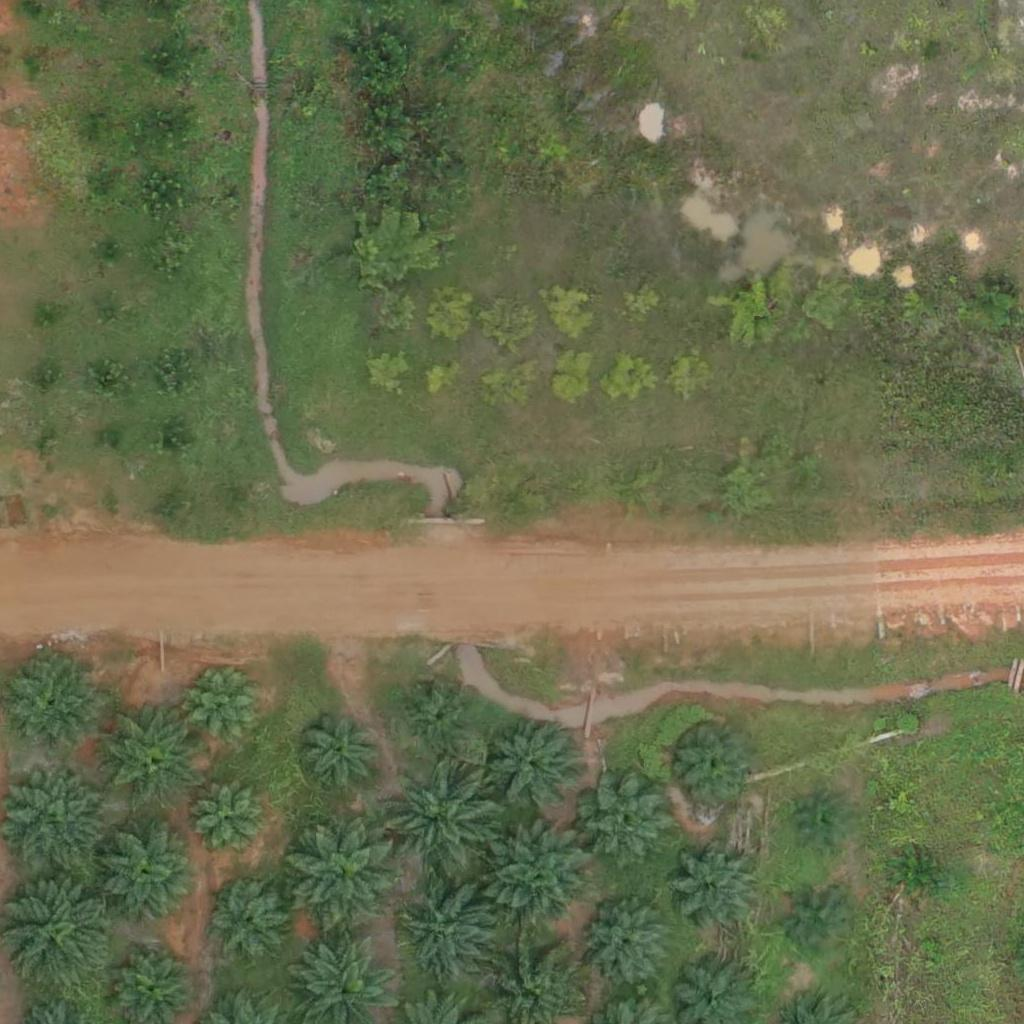Kelapa_Sawit: (387, 750, 512, 875), (2, 767, 115, 881), (8, 874, 121, 988), (289, 814, 402, 927), (3, 654, 103, 755), (101, 705, 201, 806), (402, 880, 502, 981), (490, 826, 590, 927), (101, 825, 201, 925), (491, 724, 579, 812), (298, 710, 385, 799), (186, 663, 273, 751), (582, 778, 669, 866), (584, 903, 671, 991), (672, 845, 759, 933), (677, 724, 752, 800), (216, 887, 291, 963), (191, 780, 266, 855), (788, 890, 850, 953), (411, 687, 473, 750), (889, 844, 951, 906), (798, 800, 848, 850)
